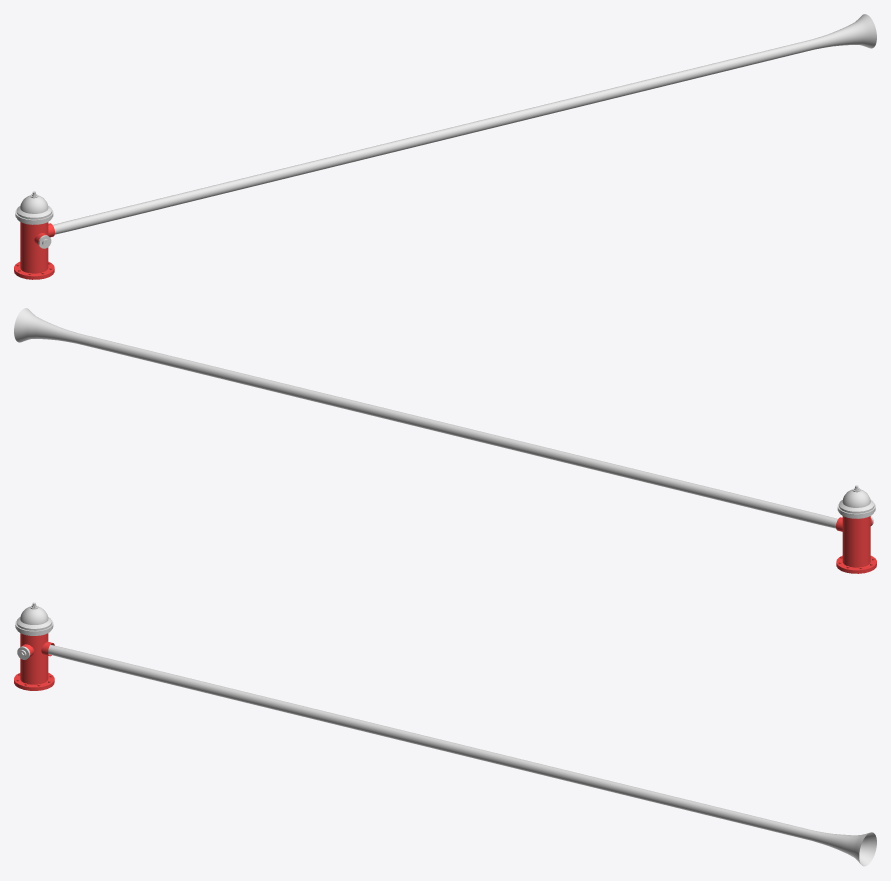
Rendered from FireHydrant.fbx.
3 views of the same model, one above another, from view 1: azimuth 30°, elevation 25°; view 2: azimuth 150°, elevation 25°; view 3: azimuth 330°, elevation 25° (orthographic).
Visible parts, largest first — view 1: FireHydrantWater, Center; view 2: FireHydrantWater, Center; view 3: FireHydrantWater, Center.
Boxes of the visible parts, x1,y1,x2,y2 form: FireHydrantWater: (53,14,876,234); Center: (20,222,48,273); FireHydrantWater: (14,308,837,528); Center: (842,516,870,567); FireHydrantWater: (48,644,876,866); Center: (20,633,48,684).
Size of the model in its own units: 835 by 74.22 by 39.26.
